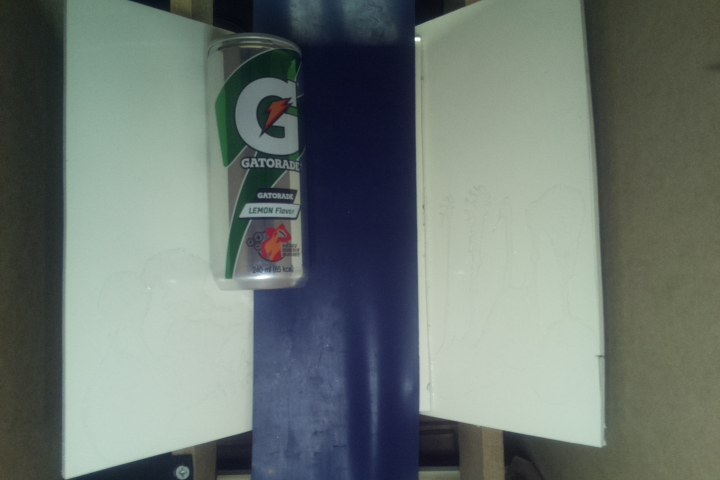can: (206, 38, 305, 291)
